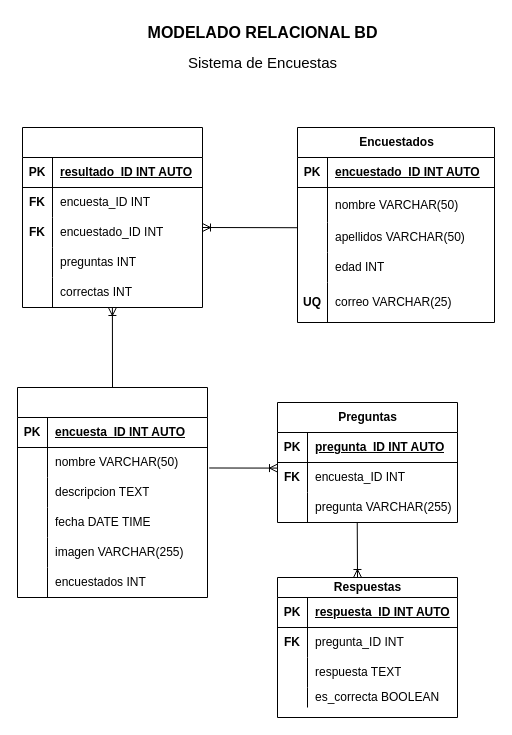
Image size: 512x735. Some labels were removed from this diagram. Each missing label, with the box of its shape:
Encuestas: (16, 386, 208, 598)
Resultados: (22, 126, 202, 308)
